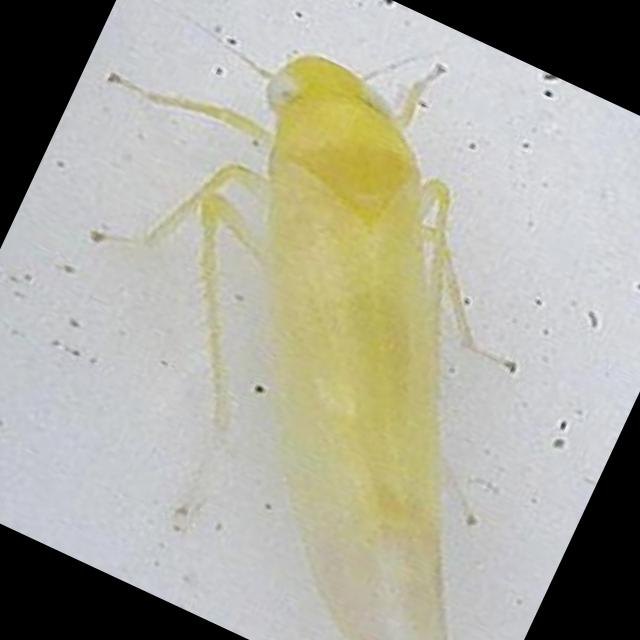green-leafhopper: (62, 37, 640, 640)
